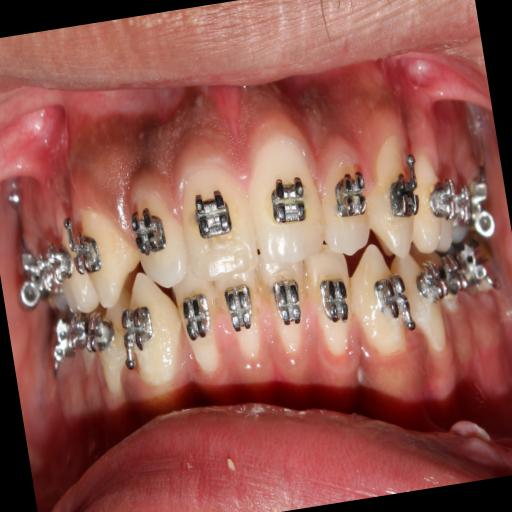correct_brace: (368, 261, 420, 349), (112, 293, 166, 376)
incorrect_brace: (306, 126, 380, 260), (120, 170, 190, 296)
